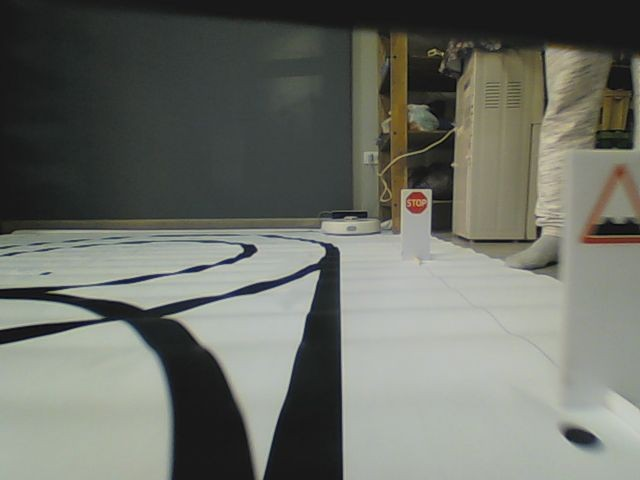Nerov: (580, 163, 640, 246)
Stop: (403, 191, 428, 214)
